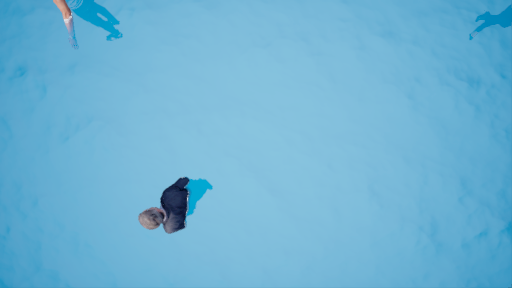person: (143, 177, 217, 238)
